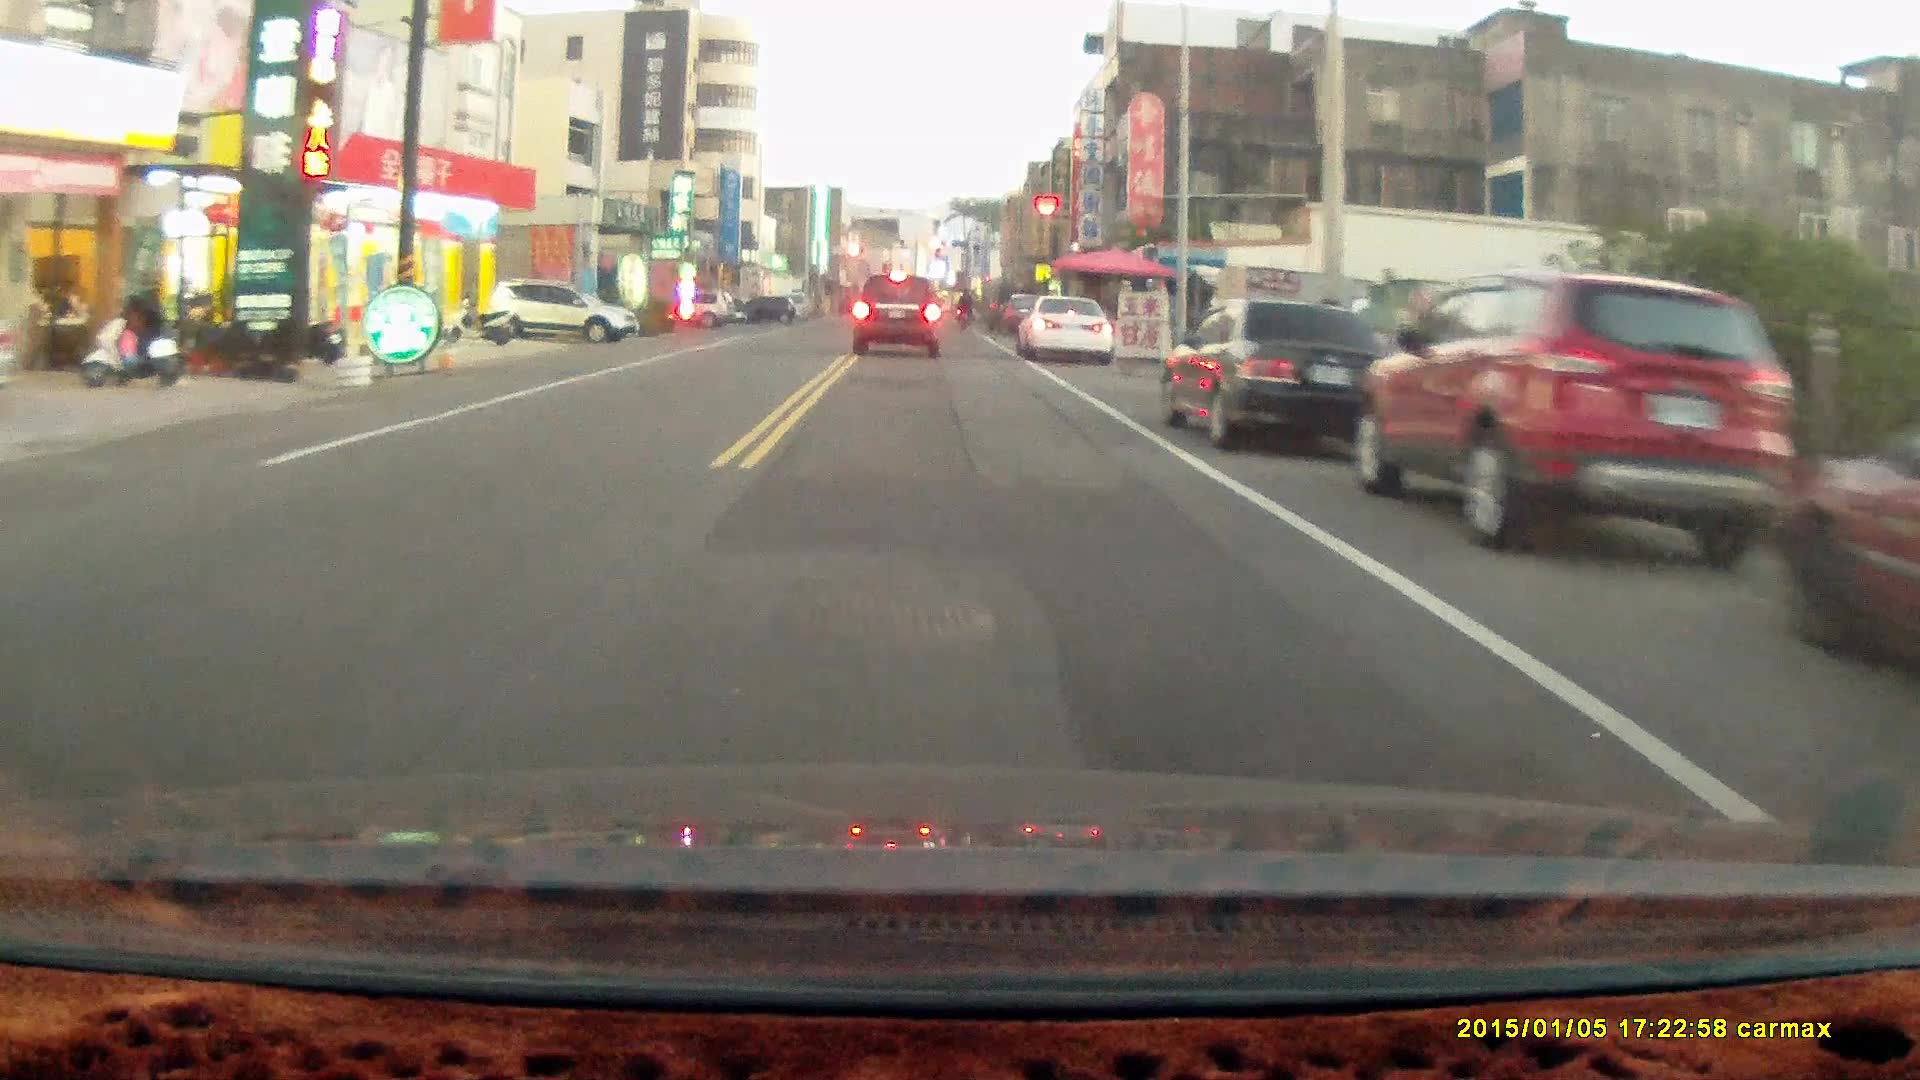vehicle: (1352, 266, 1805, 570), (1156, 298, 1389, 455), (489, 280, 646, 353), (853, 274, 943, 360), (1019, 297, 1118, 368)
